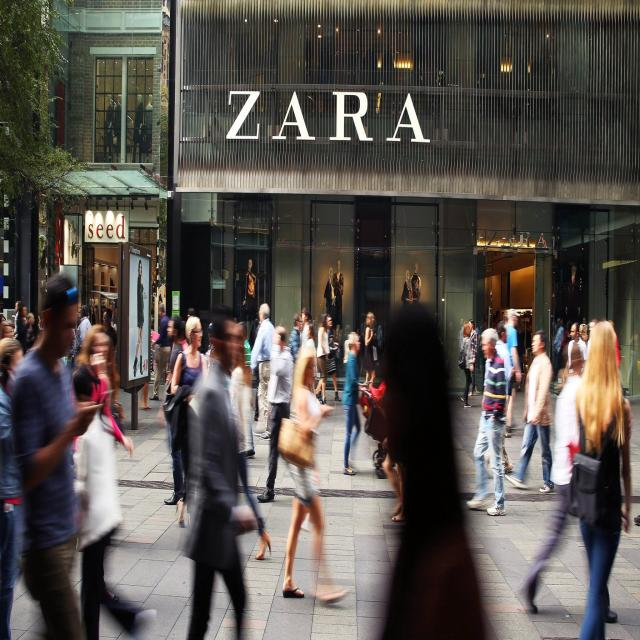body: (9, 270, 102, 640), (374, 359, 489, 639), (514, 340, 618, 626), (175, 311, 259, 640), (0, 299, 216, 411), (240, 256, 456, 360), (566, 318, 633, 640), (70, 361, 145, 640), (276, 342, 348, 610), (74, 322, 134, 606), (516, 262, 622, 372), (228, 324, 272, 560), (464, 326, 509, 518), (504, 327, 555, 494), (170, 314, 208, 532), (0, 335, 25, 639), (256, 324, 295, 504), (164, 315, 189, 504), (341, 330, 373, 477), (102, 90, 154, 166), (250, 302, 276, 442), (233, 321, 256, 460), (148, 302, 174, 402), (502, 308, 521, 438), (316, 313, 342, 404), (561, 322, 588, 386), (495, 320, 516, 394), (314, 312, 330, 407), (457, 321, 474, 409), (132, 258, 144, 378), (301, 322, 317, 399), (364, 310, 378, 388), (74, 304, 92, 360), (467, 318, 478, 398), (288, 312, 303, 364), (553, 318, 564, 381), (102, 308, 117, 354), (66, 217, 80, 266), (301, 308, 310, 357), (564, 320, 573, 369), (136, 258, 144, 300)
